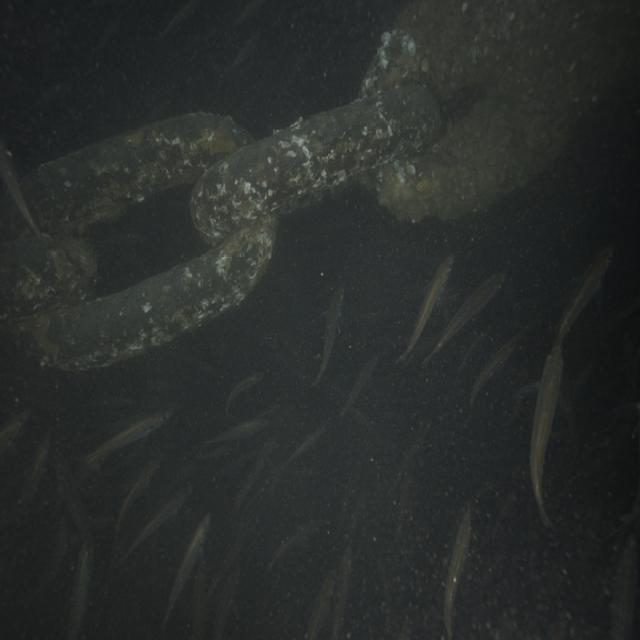ChainLink: (18, 215, 276, 370), (375, 58, 616, 221), (190, 85, 440, 241), (20, 113, 251, 233), (361, 0, 586, 121), (0, 236, 96, 319), (0, 197, 26, 238)
